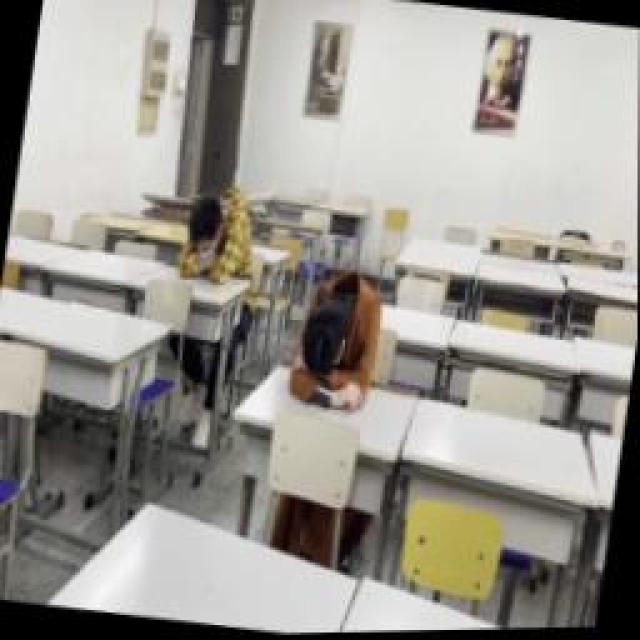sleep: (285, 265, 385, 410), (172, 180, 262, 285)
